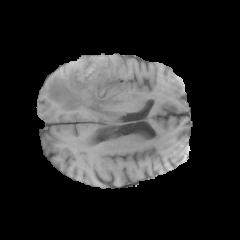glioma: (48, 55, 121, 113)
